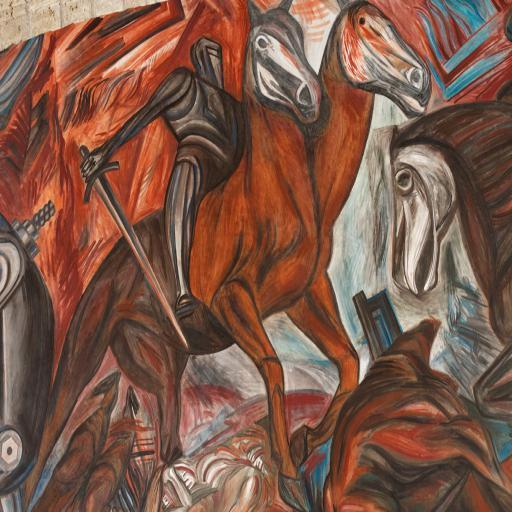horse: (22, 2, 360, 512), (287, 0, 431, 472), (390, 98, 512, 426)
